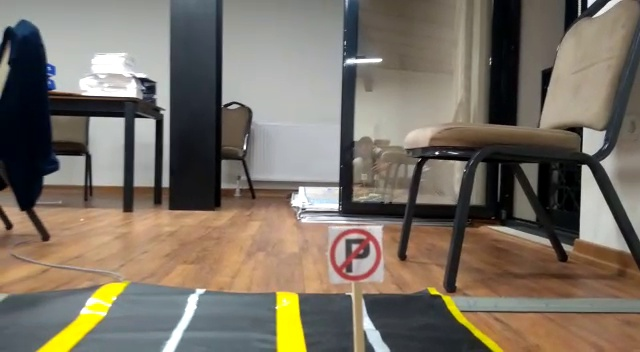park_yapilmaz: (329, 223, 382, 283)
